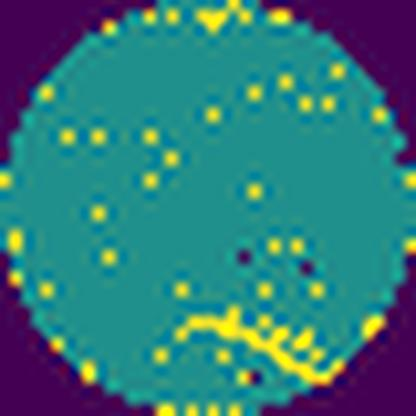Scratch: (177, 302, 343, 388)
